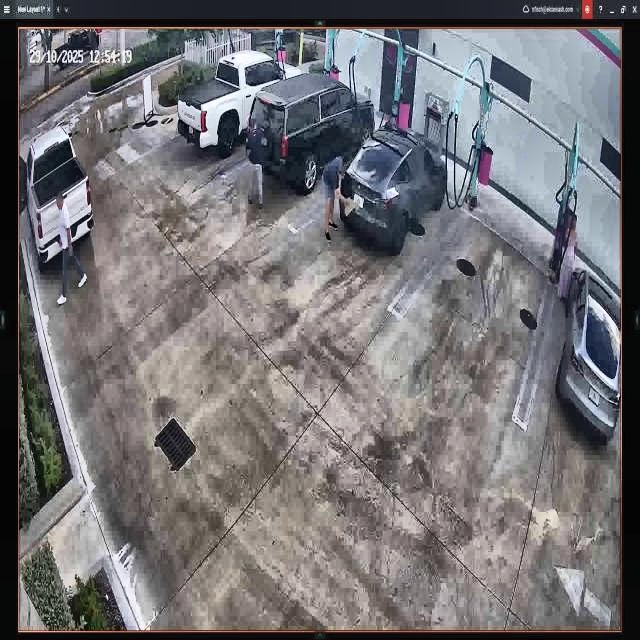Car: (250, 75, 374, 193), (342, 125, 447, 258), (180, 55, 302, 158)
